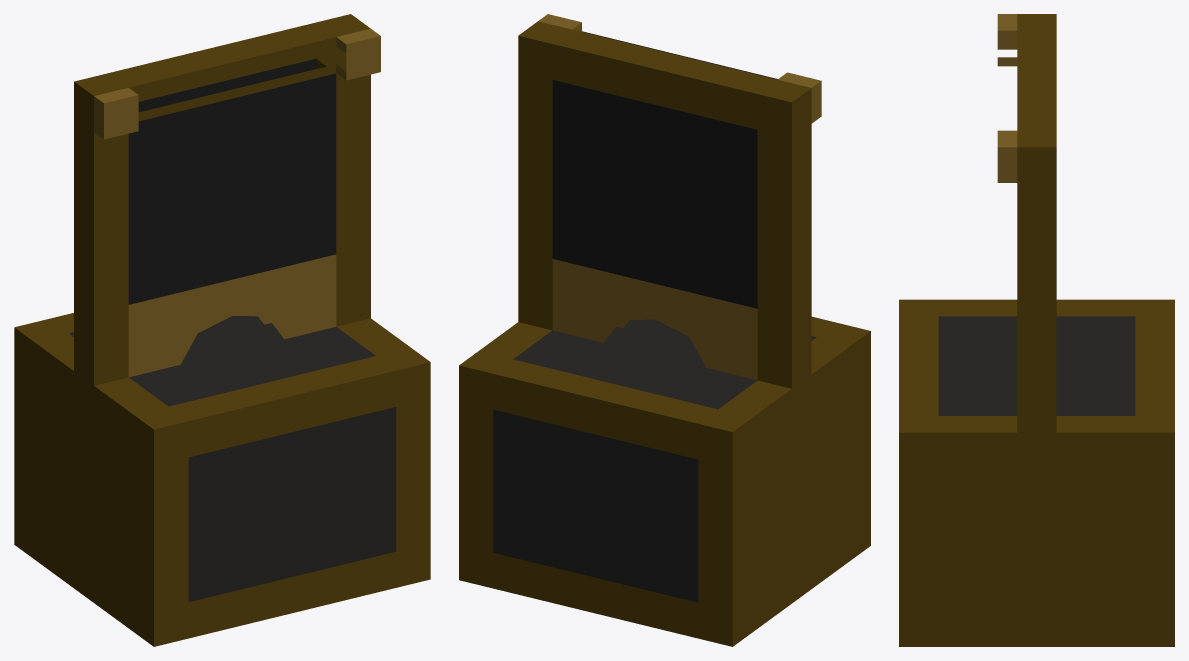
The model's file is obj_closed_bank_booth_0.obj.
The picture shows the model from 3 angles, left to right: view 1: azimuth 30°, elevation 25°; view 2: azimuth 150°, elevation 25°; view 3: azimuth 270°, elevation 25°; orthographic projection.
Bounding box in the file's own units: 1 × 1.75 × 0.875.
